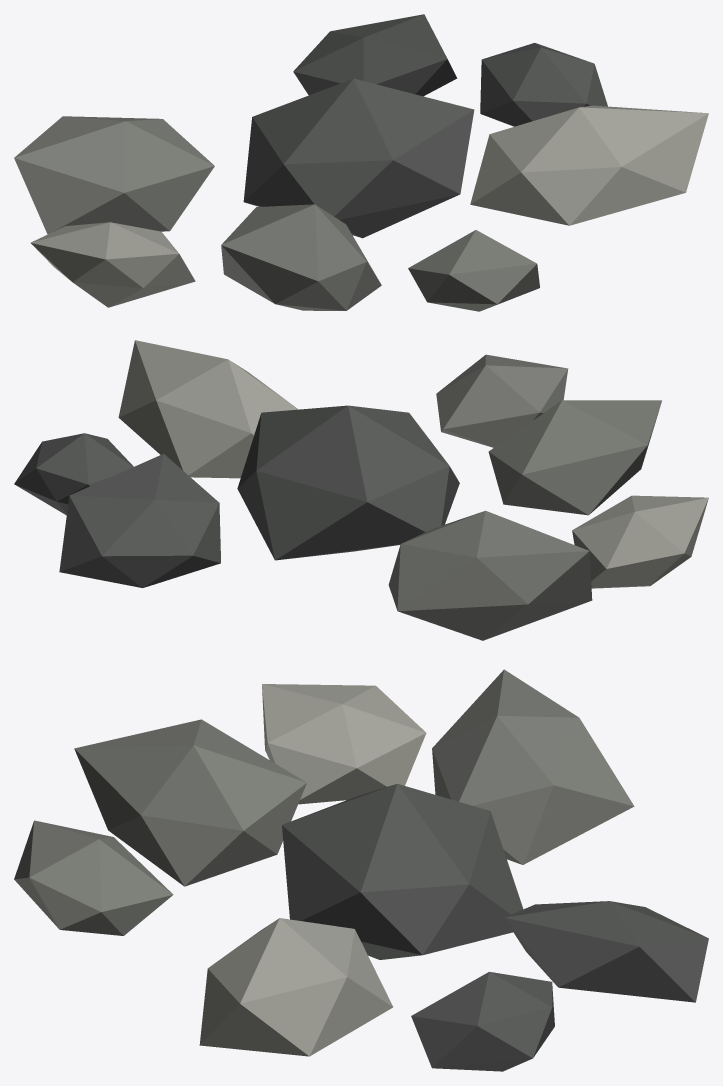
File: scree_patch.glb
The picture shows the model from 3 angles, top to bottom: view 1: azimuth 30°, elevation 25°; view 2: azimuth 150°, elevation 25°; view 3: azimuth 270°, elevation 25°; orthographic projection. The views are drawn at different scales.
Parts seen in each view (by area): view 1: scree_patch; view 2: scree_patch; view 3: scree_patch.
Boxes of the visible parts, x1,y1,x2,y2 form: scree_patch: [14, 14, 708, 311]; scree_patch: [14, 340, 708, 640]; scree_patch: [14, 669, 708, 1071].
Size of the model in its own units: 0.9095 by 0.2169 by 0.7779.
Materials: 1 (1 with a texture image).
